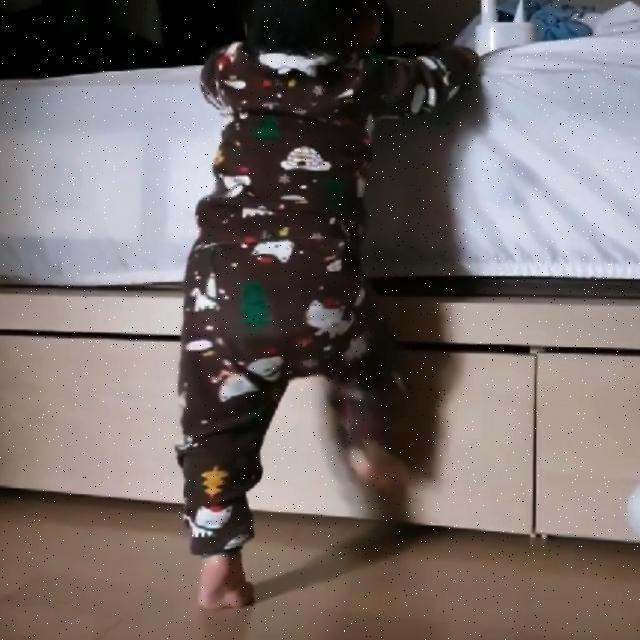child: (182, 0, 487, 611)
